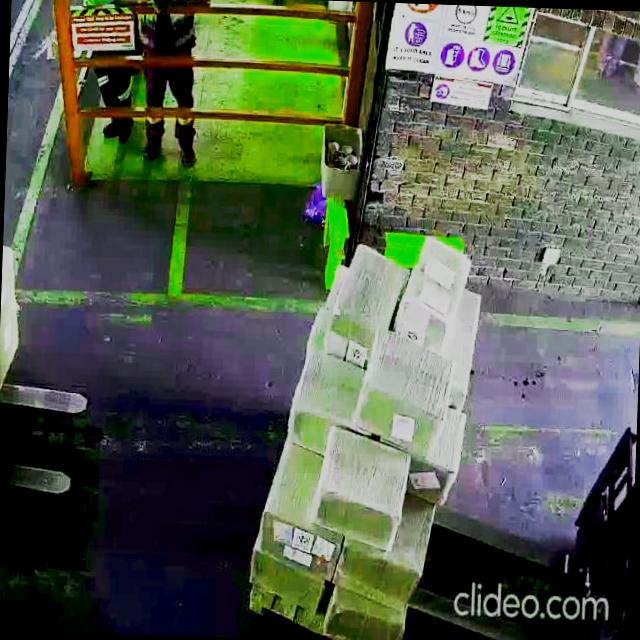Box: (360, 331, 455, 440), (314, 434, 409, 543), (393, 232, 478, 340), (294, 348, 360, 444), (338, 542, 423, 614), (339, 243, 395, 343), (256, 506, 340, 572), (246, 548, 320, 620), (326, 593, 402, 640)
